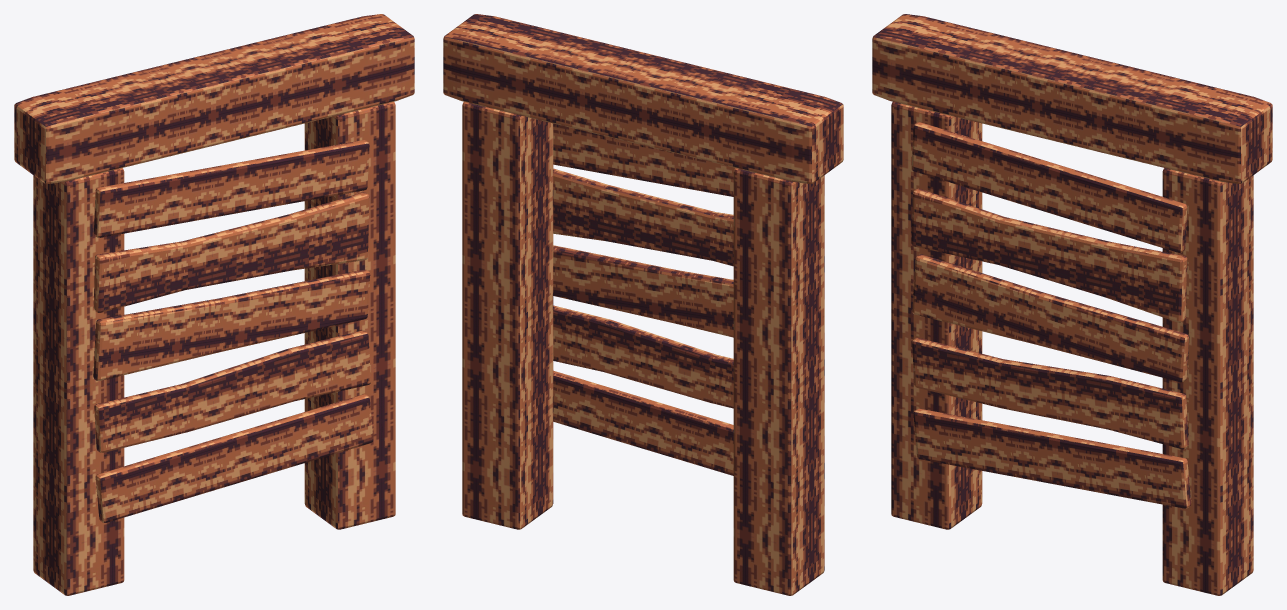
Rendered from VigaMaderaEsq 01.fbx.
3 views of the same model, side by side, from view 1: azimuth 30°, elevation 25°; view 2: azimuth 150°, elevation 25°; view 3: azimuth 330°, elevation 25° (orthographic).
Visible parts, largest first — view 1: VigaMaderaEsq.001; view 2: VigaMaderaEsq.001; view 3: VigaMaderaEsq.001.
Boxes of the visible parts, x1,y1,x2,y2 form: VigaMaderaEsq.001: (14, 14, 414, 595); VigaMaderaEsq.001: (443, 14, 843, 595); VigaMaderaEsq.001: (872, 14, 1272, 595).
Size of the model in its own units: 1.87 by 0.35 by 2.3.
